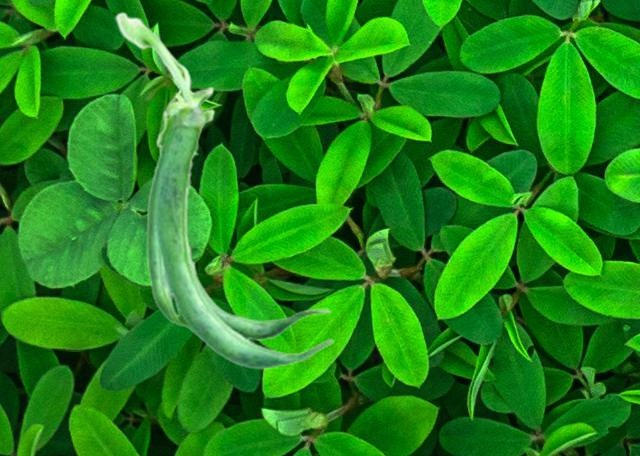french_bean: (114, 11, 333, 369)
